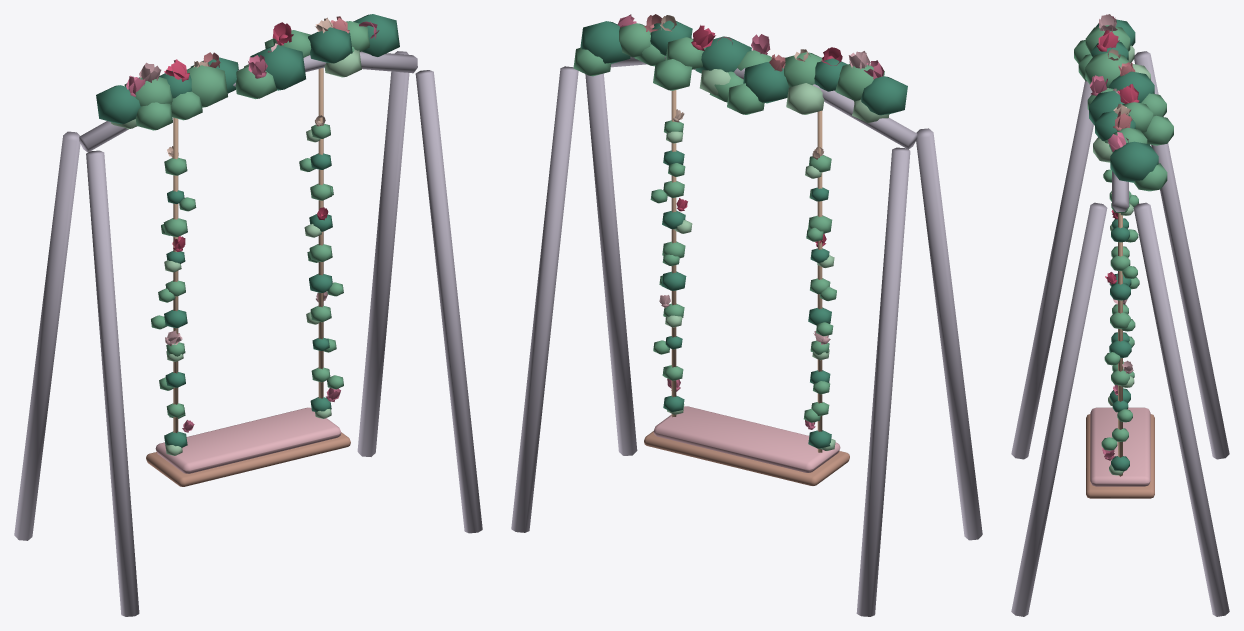
Rendered from garden_swing.glb.
The picture shows the model from 3 angles, left to right: view 1: azimuth 30°, elevation 25°; view 2: azimuth 150°, elevation 25°; view 3: azimuth 270°, elevation 25°; orthographic projection. The views are drawn at different scales.
Parts seen in each view (by area): view 1: garden_swing; view 2: garden_swing; view 3: garden_swing.
Part boxes in pixels (box(x1,y1,x2,y2)): garden_swing: box(14, 14, 482, 616); garden_swing: box(511, 14, 982, 616); garden_swing: box(1011, 14, 1229, 616).
Size of what is drawn, in the model's own units: 2.7 by 3.62 by 1.52.
